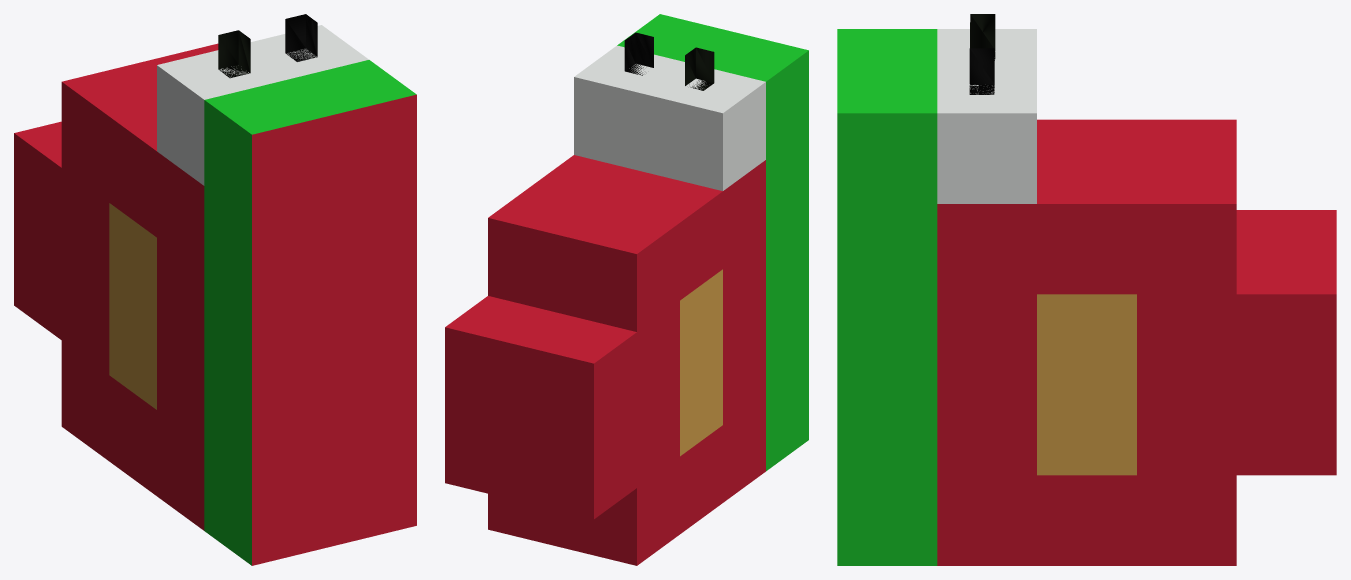
Rendered from snail.fbx.
3 renders of one model, left to right at view 1: azimuth 30°, elevation 25°; view 2: azimuth 150°, elevation 25°; view 3: azimuth 270°, elevation 25°, orthographic. The views are drawn at different scales.
Visible parts, largest first — view 1: imagetostl_mesh2, imagetostl_mesh0, imagetostl_mesh1; view 2: imagetostl_mesh2, imagetostl_mesh0, imagetostl_mesh1; view 3: imagetostl_mesh2, imagetostl_mesh1, imagetostl_mesh0.
Part boxes in pixels (x1,y1,x2,y2): imagetostl_mesh2: [14, 25, 416, 565]; imagetostl_mesh0: [218, 30, 250, 78]; imagetostl_mesh1: [285, 14, 317, 61]; imagetostl_mesh2: [445, 14, 808, 565]; imagetostl_mesh0: [685, 47, 714, 90]; imagetostl_mesh1: [624, 32, 653, 75]; imagetostl_mesh2: [837, 29, 1336, 565]; imagetostl_mesh1: [969, 48, 994, 94]; imagetostl_mesh0: [970, 14, 995, 60].
Size of the model in its own units: 2000 by 5400 by 5000.
